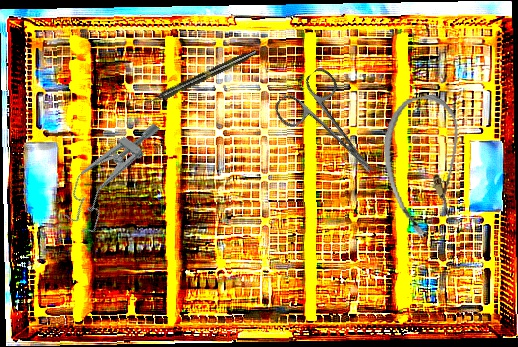Cannula: (373, 90, 479, 242)
Handpiece: (144, 47, 258, 108)
Iris Scissors: (270, 64, 396, 196)
Speculum: (53, 106, 168, 238)
